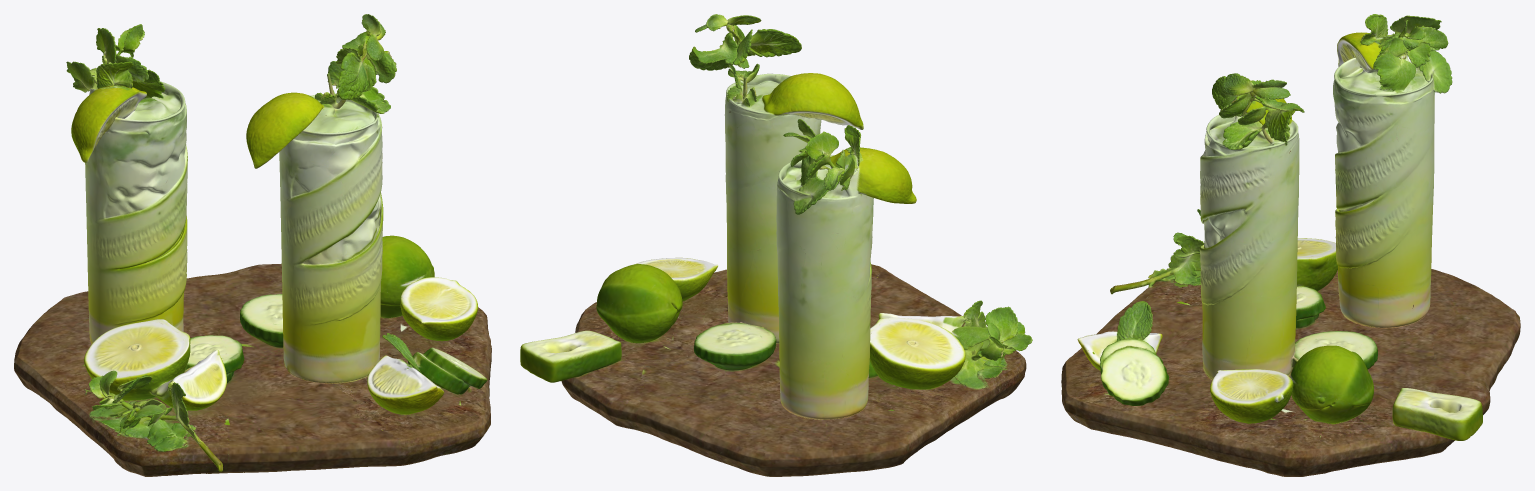
File: Mint_Cucumber_Lime-v1.glb
3 views of the same model, side by side, from view 1: azimuth 30°, elevation 25°; view 2: azimuth 150°, elevation 25°; view 3: azimuth 270°, elevation 25° (orthographic). The views are drawn at different scales.
Bounding box in the file's own units: 1.9 × 1.52 × 1.82.
1 material, 1 textured.
